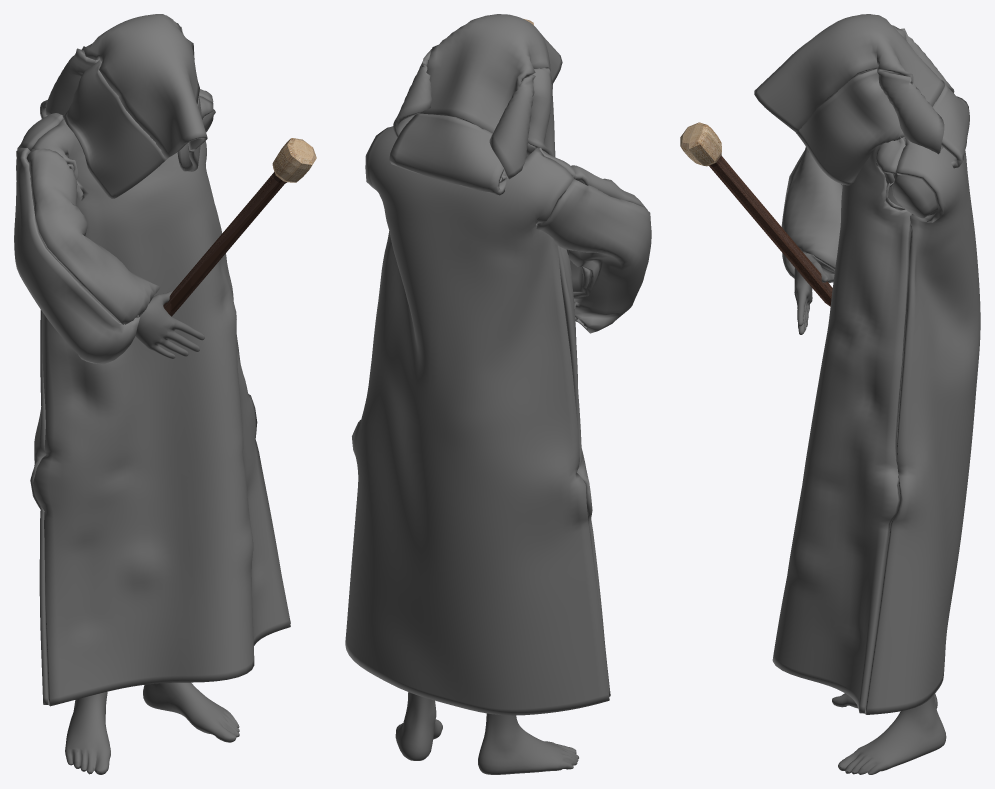
Rendered from statue_2.fbx.
3 views of the same model, side by side, from view 1: azimuth 30°, elevation 25°; view 2: azimuth 150°, elevation 25°; view 3: azimuth 270°, elevation 25° (orthographic). The views are drawn at different scales.
Parts seen in each view (by area): view 1: Plane.002, Ch36.002, Cube.009; view 2: Plane.002, Ch36.002; view 3: Plane.002, Ch36.002, Cube.009.
Boxes of the visible parts, left/top/right/bottom form: Plane.002: left=14, top=14, right=290, bottom=706; Ch36.002: left=26, top=109, right=239, bottom=774; Cube.009: left=163, top=138, right=316, bottom=316; Plane.002: left=345, top=14, right=651, bottom=715; Ch36.002: left=395, top=692, right=578, bottom=774; Plane.002: left=754, top=14, right=980, bottom=714; Ch36.002: left=794, top=91, right=946, bottom=774; Cube.009: left=680, top=122, right=832, bottom=306.
Size of the model in its own units: 281 by 698 by 266.
